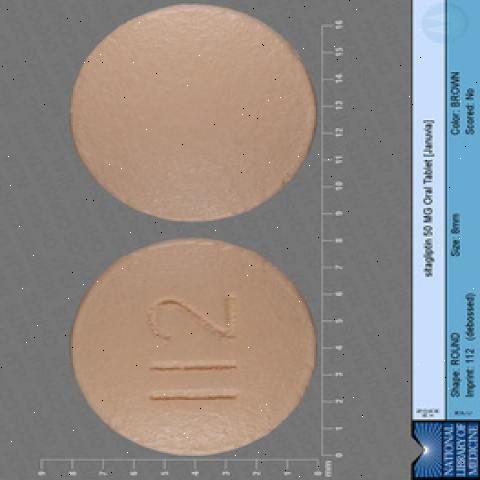Pill: (63, 227, 328, 463), (56, 1, 332, 226)
